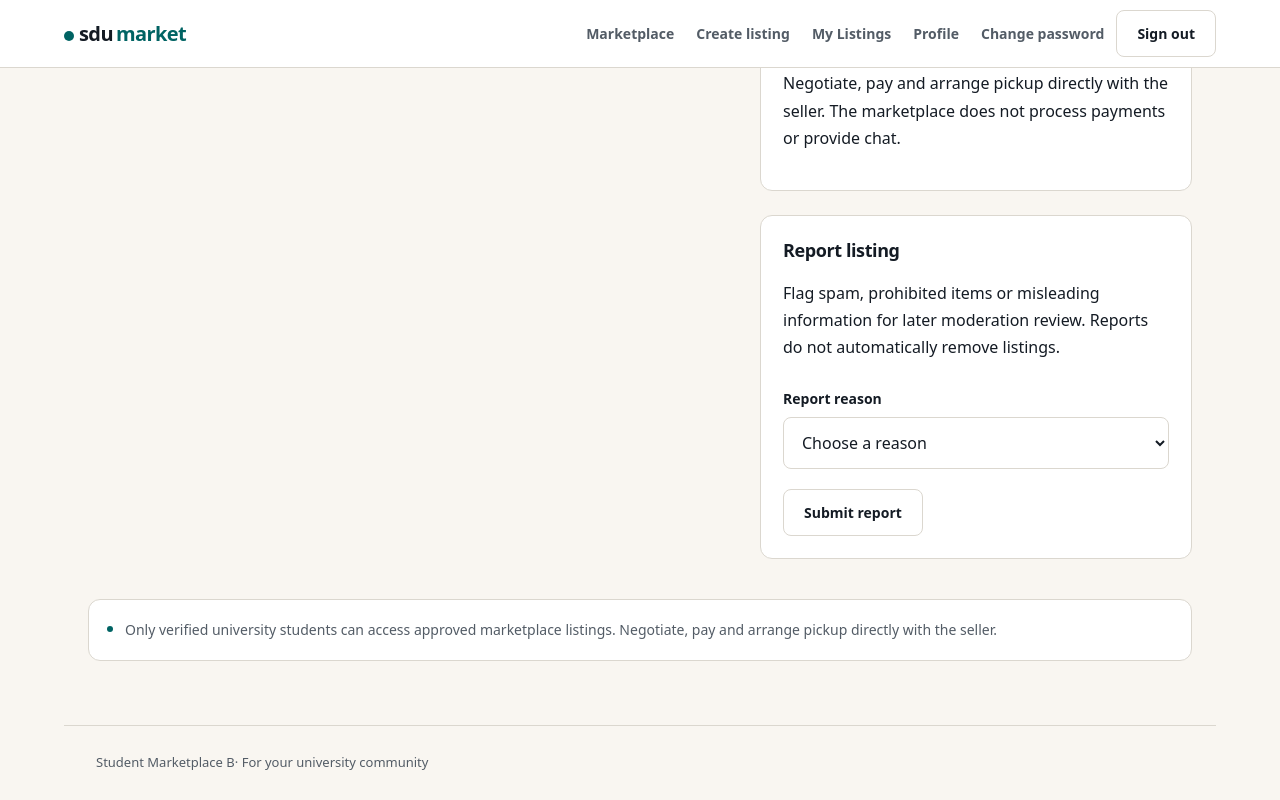
Test: self/private/malformed response errors are safe without changing logged-in account
(page scrolled)
Check: the form named "Report listing" is shown, box [783,378,1169,536]
Select "Misleading information" in the dropdown labelled "Report reason". click: (976, 444)
box: [783,418,1169,470]
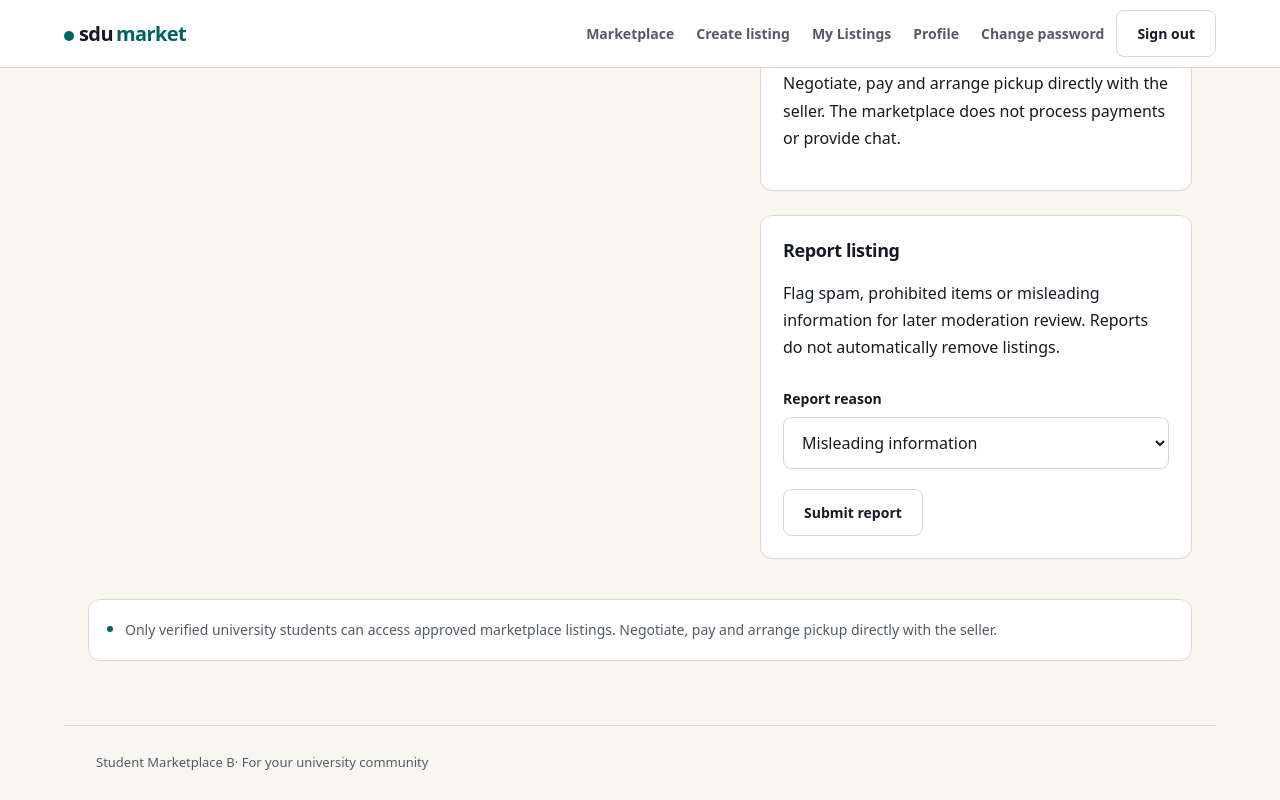
Submit the form named "Report listing", box [783,378,1169,536]
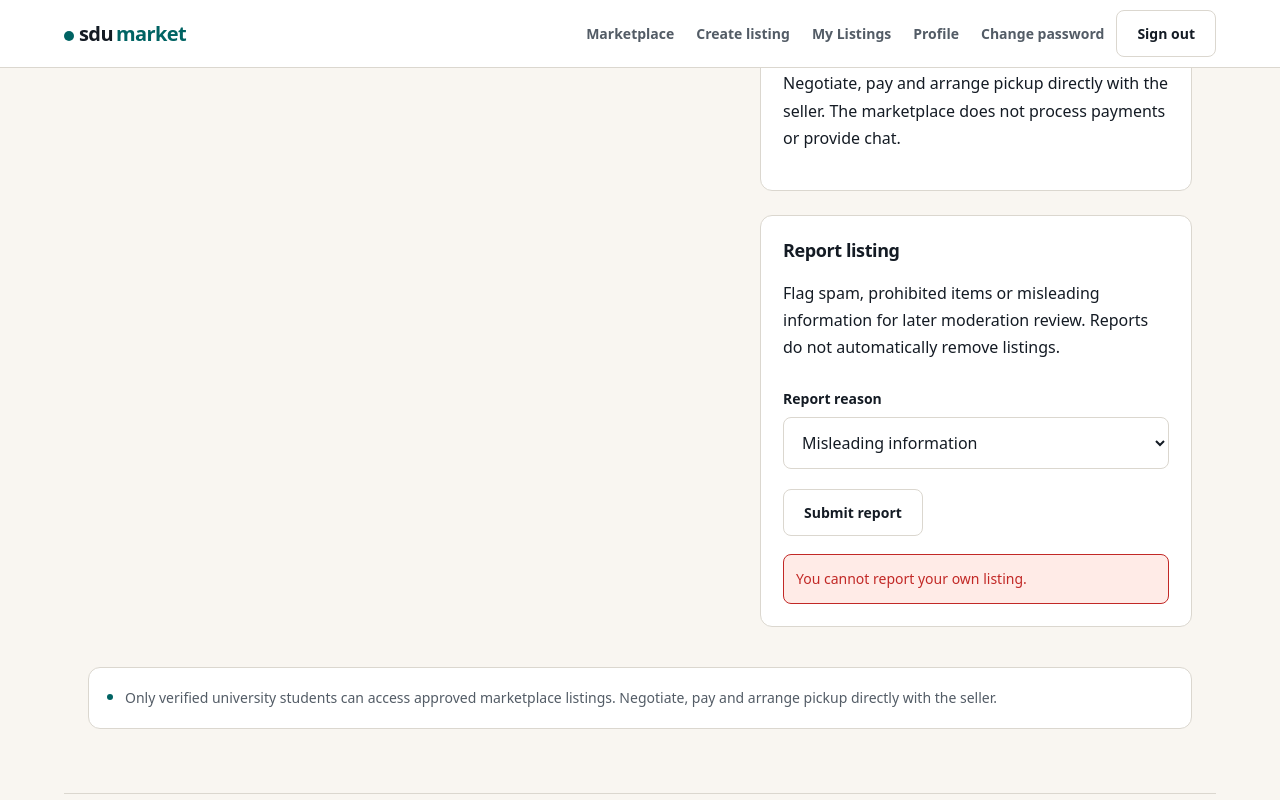
Check: the button "Sign out" is shown, box [1116,10,1216,57]
Check: the text "You cannot report your own listing." is shown, box [783,554,1169,604]
Submit the form named "Report listing", box [783,378,1169,604]
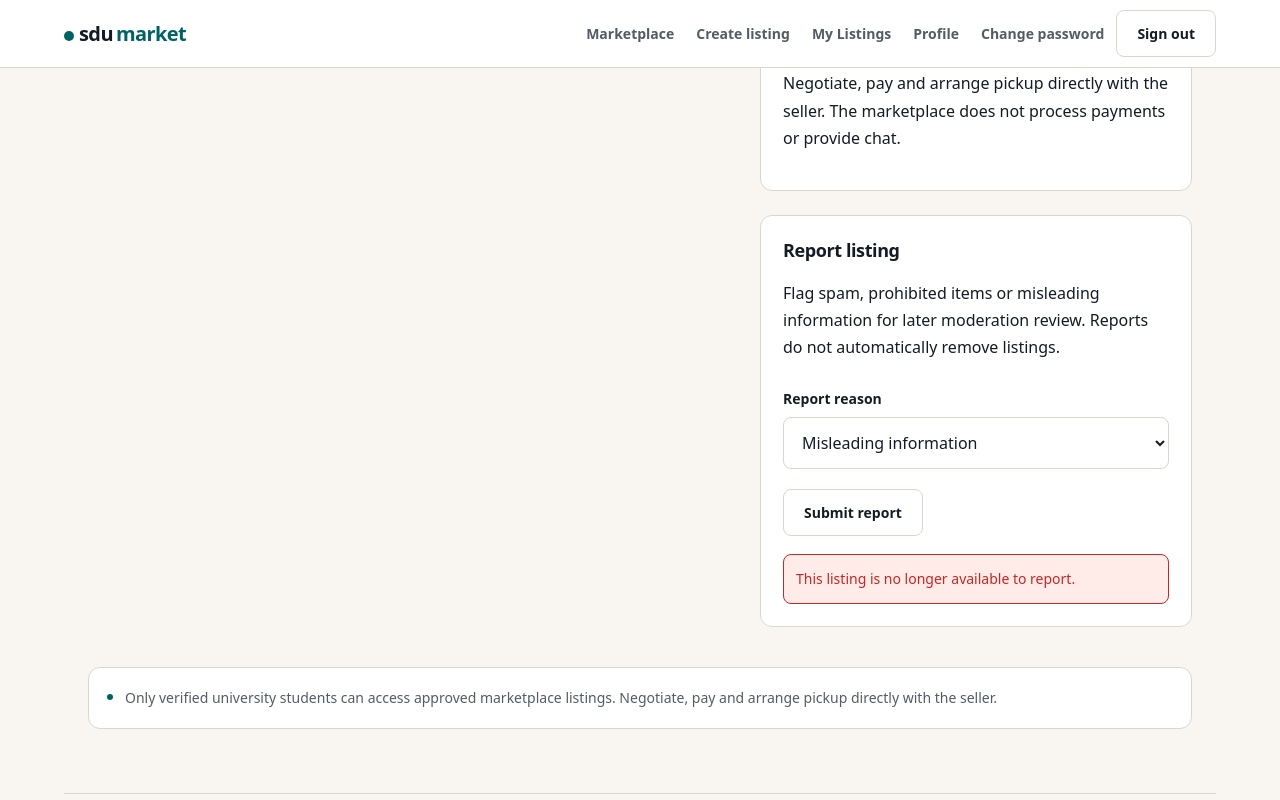
Check: the text "This listing is no longer available to report." is shown, box [783,554,1169,604]
Submit the form named "Report listing", box [783,378,1169,604]
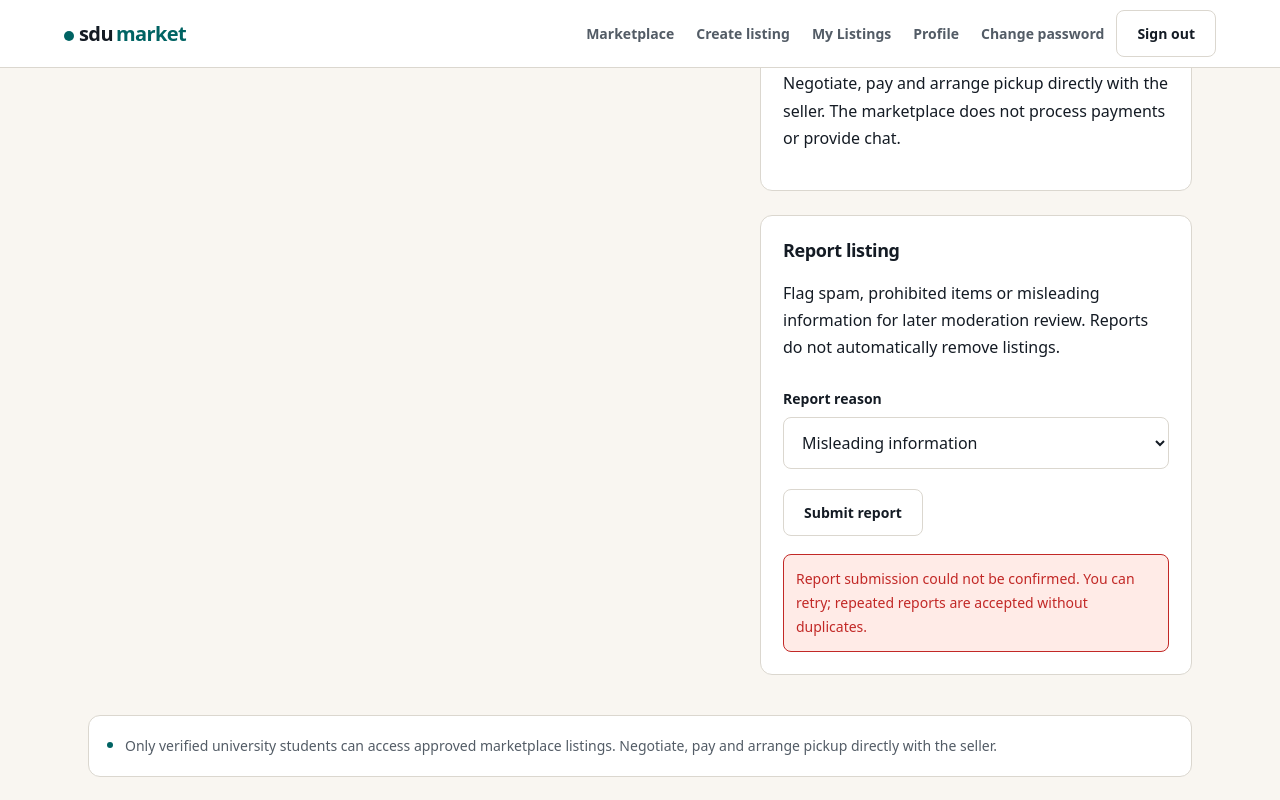
Check: the text "Report submission could not be confirmed. You can retry; repeated reports are accepted without duplicates." is shown, box [796,570,1134,636]
